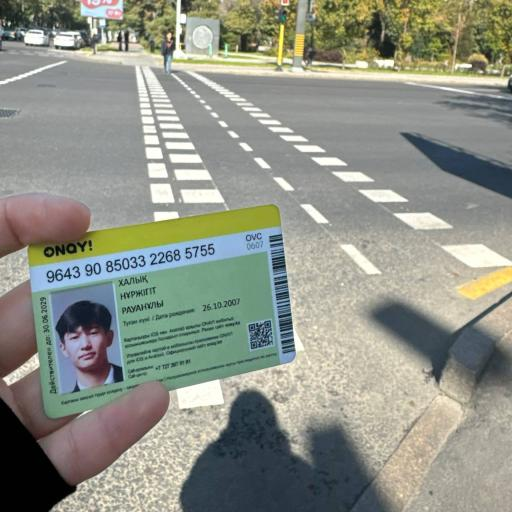bottle: (54, 32, 80, 49), (24, 29, 49, 46), (68, 31, 85, 47), (2, 28, 15, 40), (15, 27, 27, 40), (80, 31, 90, 46), (0, 25, 3, 50), (508, 75, 511, 92)
construction_fence: (351, 396, 463, 511), (440, 296, 511, 403)
ramp: (0, 44, 511, 511)
table: (275, 9, 287, 23)
